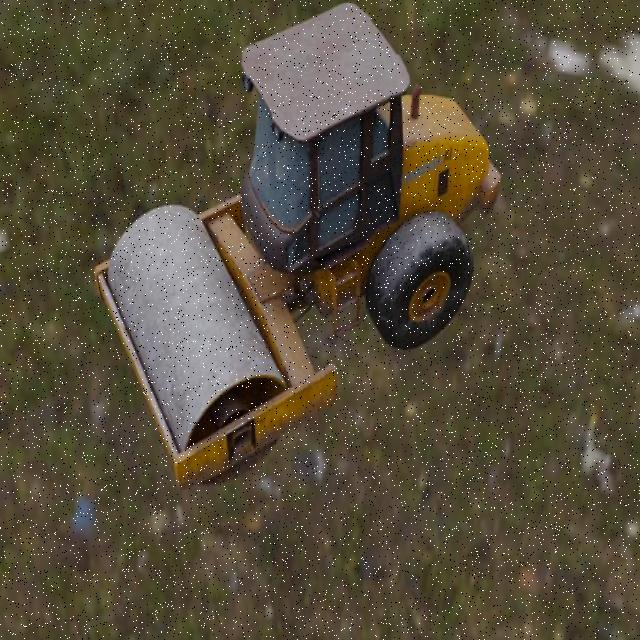Roller: (93, 2, 500, 490)
